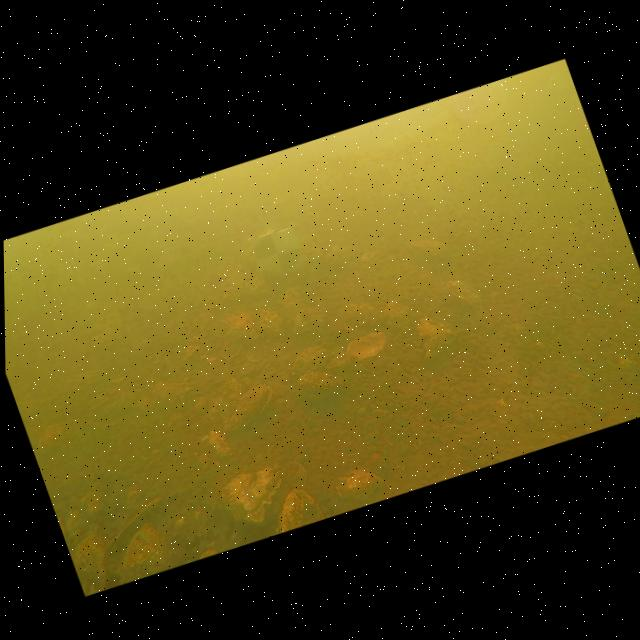Oyster-Closed: (222, 466, 282, 521), (220, 381, 269, 435), (73, 521, 109, 589), (276, 488, 325, 533), (139, 381, 192, 412), (417, 316, 455, 359), (90, 388, 136, 422), (336, 470, 384, 500), (297, 370, 344, 400), (291, 345, 331, 373), (222, 311, 258, 341), (409, 239, 450, 264), (293, 307, 324, 339), (347, 302, 384, 327), (383, 299, 410, 332), (442, 280, 479, 304), (281, 460, 308, 489), (258, 308, 285, 337), (281, 287, 305, 319), (36, 424, 63, 449), (166, 412, 182, 425)
Oyster-Indeterminate: (120, 523, 170, 583), (206, 375, 247, 422)
Oyster-Open: (346, 331, 386, 360)
